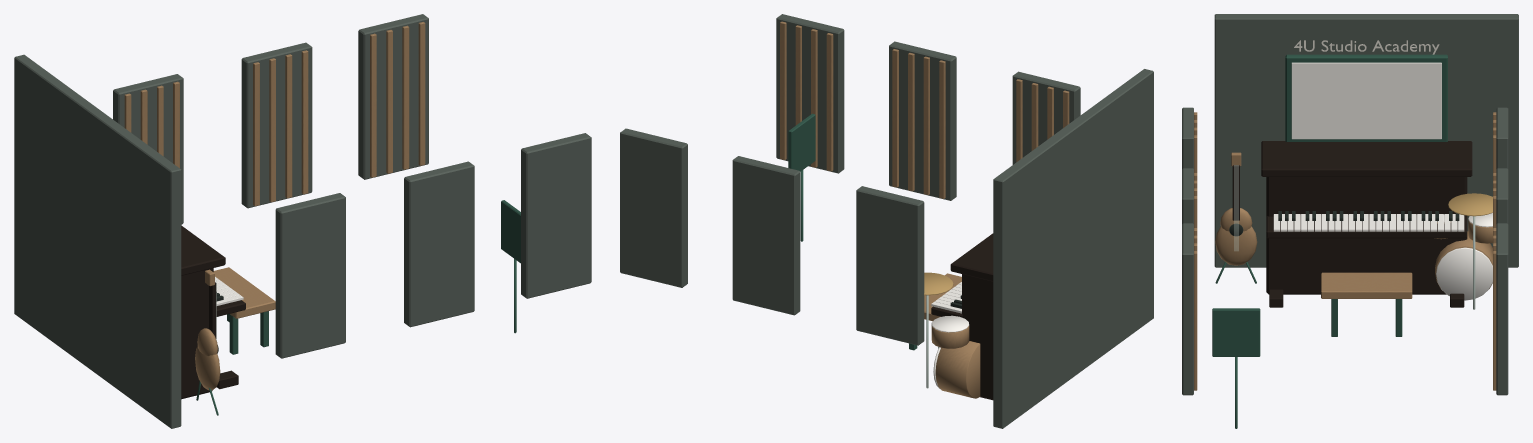
The model's file is room-academy-v1.glb.
The picture shows the model from 3 angles, left to right: view 1: azimuth 30°, elevation 25°; view 2: azimuth 150°, elevation 25°; view 3: azimuth 270°, elevation 25°; orthographic projection. The views are drawn at different scales.
Parts seen in each view (by area): view 1: room__academy__acoustic, room__academy__oak, room__academy__espresso, room__academy__greensteel; view 2: room__academy__acoustic, room__academy__oak, room__academy__espresso, room__academy__greensteel, room__academy__ivory, room__academy__brass; view 3: room__academy__acoustic, room__academy__espresso, room__academy__ivory, room__academy__oak, room__academy__greensteel, room__academy__graphite, room__academy__brass, room__academy__steel_light, room__academy__paper.
Part boxes in pixels (x1,y1,x2,y2): room__academy__acoustic: [14, 14, 591, 428]; room__academy__oak: [124, 22, 425, 390]; room__academy__espresso: [181, 225, 245, 399]; room__academy__greensteel: [196, 200, 520, 415]; room__academy__acoustic: [620, 14, 1153, 428]; room__academy__oak: [780, 21, 1069, 398]; room__academy__espresso: [931, 233, 993, 400]; room__academy__greensteel: [788, 113, 938, 350]; room__academy__ivory: [931, 282, 969, 389]; room__academy__brass: [924, 272, 953, 295]; room__academy__acoustic: [1182, 14, 1518, 395]; room__academy__espresso: [1232, 141, 1472, 307]; room__academy__ivory: [1273, 62, 1492, 300]; room__academy__oak: [1194, 112, 1496, 390]; room__academy__greensteel: [1212, 54, 1447, 428]; room__academy__graphite: [1229, 211, 1459, 236]; room__academy__brass: [1448, 193, 1492, 216]; room__academy__steel_light: [1234, 165, 1475, 309]; room__academy__paper: [1294, 40, 1439, 54].
Bounding box in the file's own units: 4.5 × 2.74 × 3.36.
Materials: 9 (1 with a texture image).
